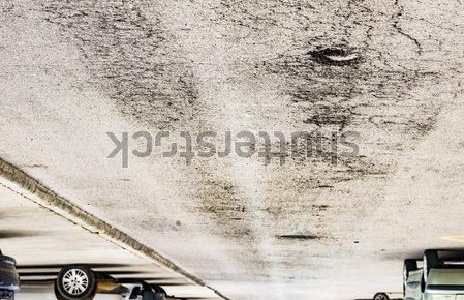pothole: (308, 45, 366, 69), (272, 233, 321, 245)
